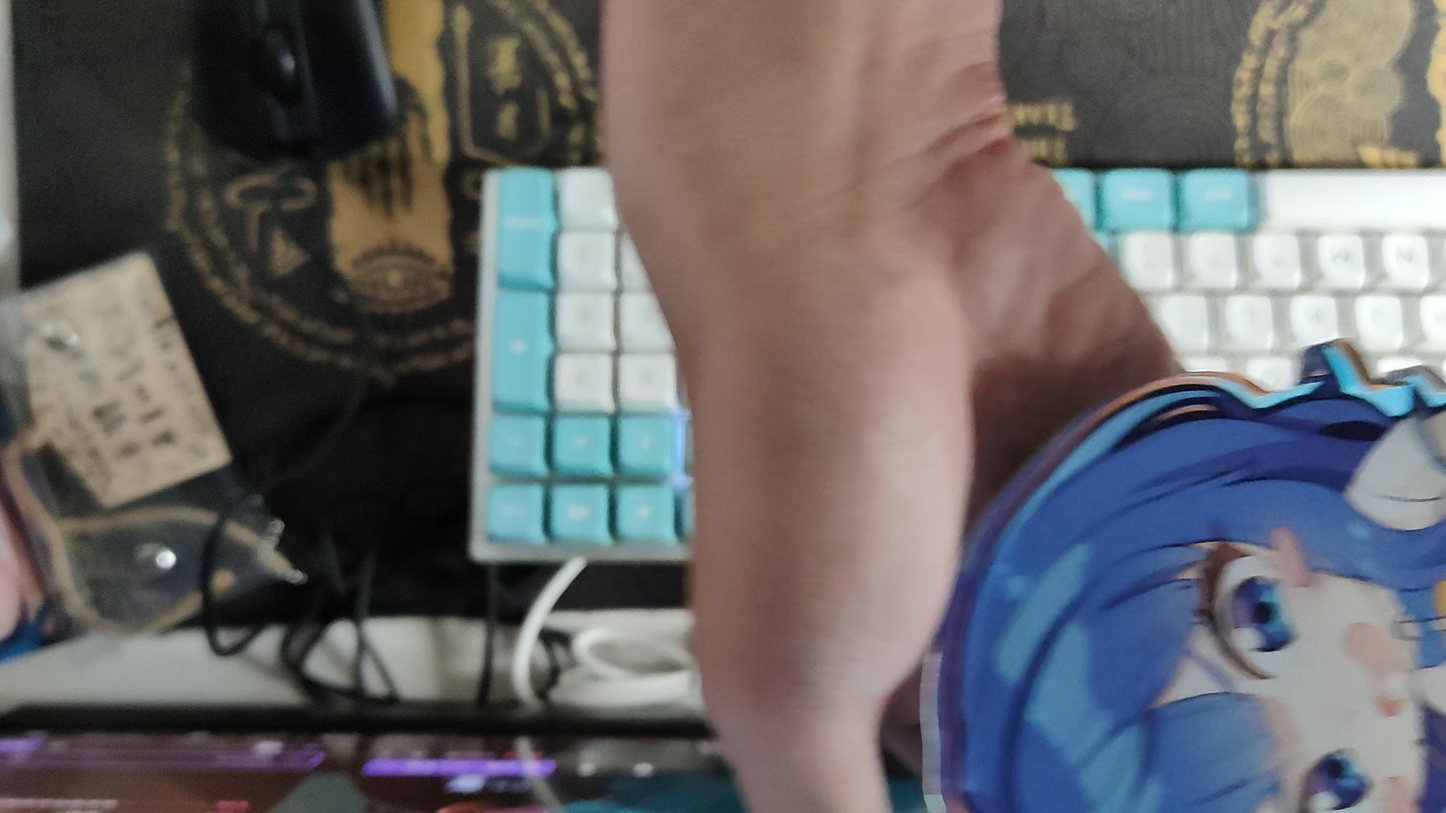Yanami-anna: (919, 341, 1446, 813)
